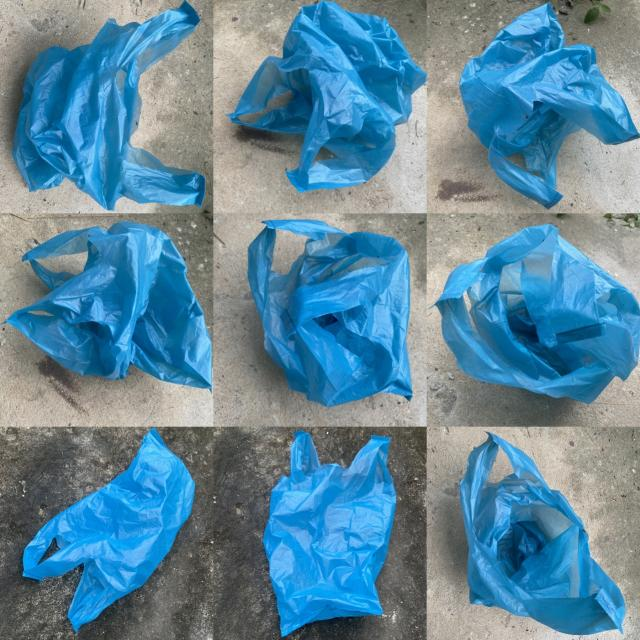Single-layer Plastic: (12, 2, 205, 210), (228, 1, 426, 192), (460, 4, 640, 208), (435, 225, 640, 403), (24, 429, 195, 631), (8, 221, 211, 389), (460, 435, 625, 634), (248, 220, 412, 406), (264, 431, 396, 636)
